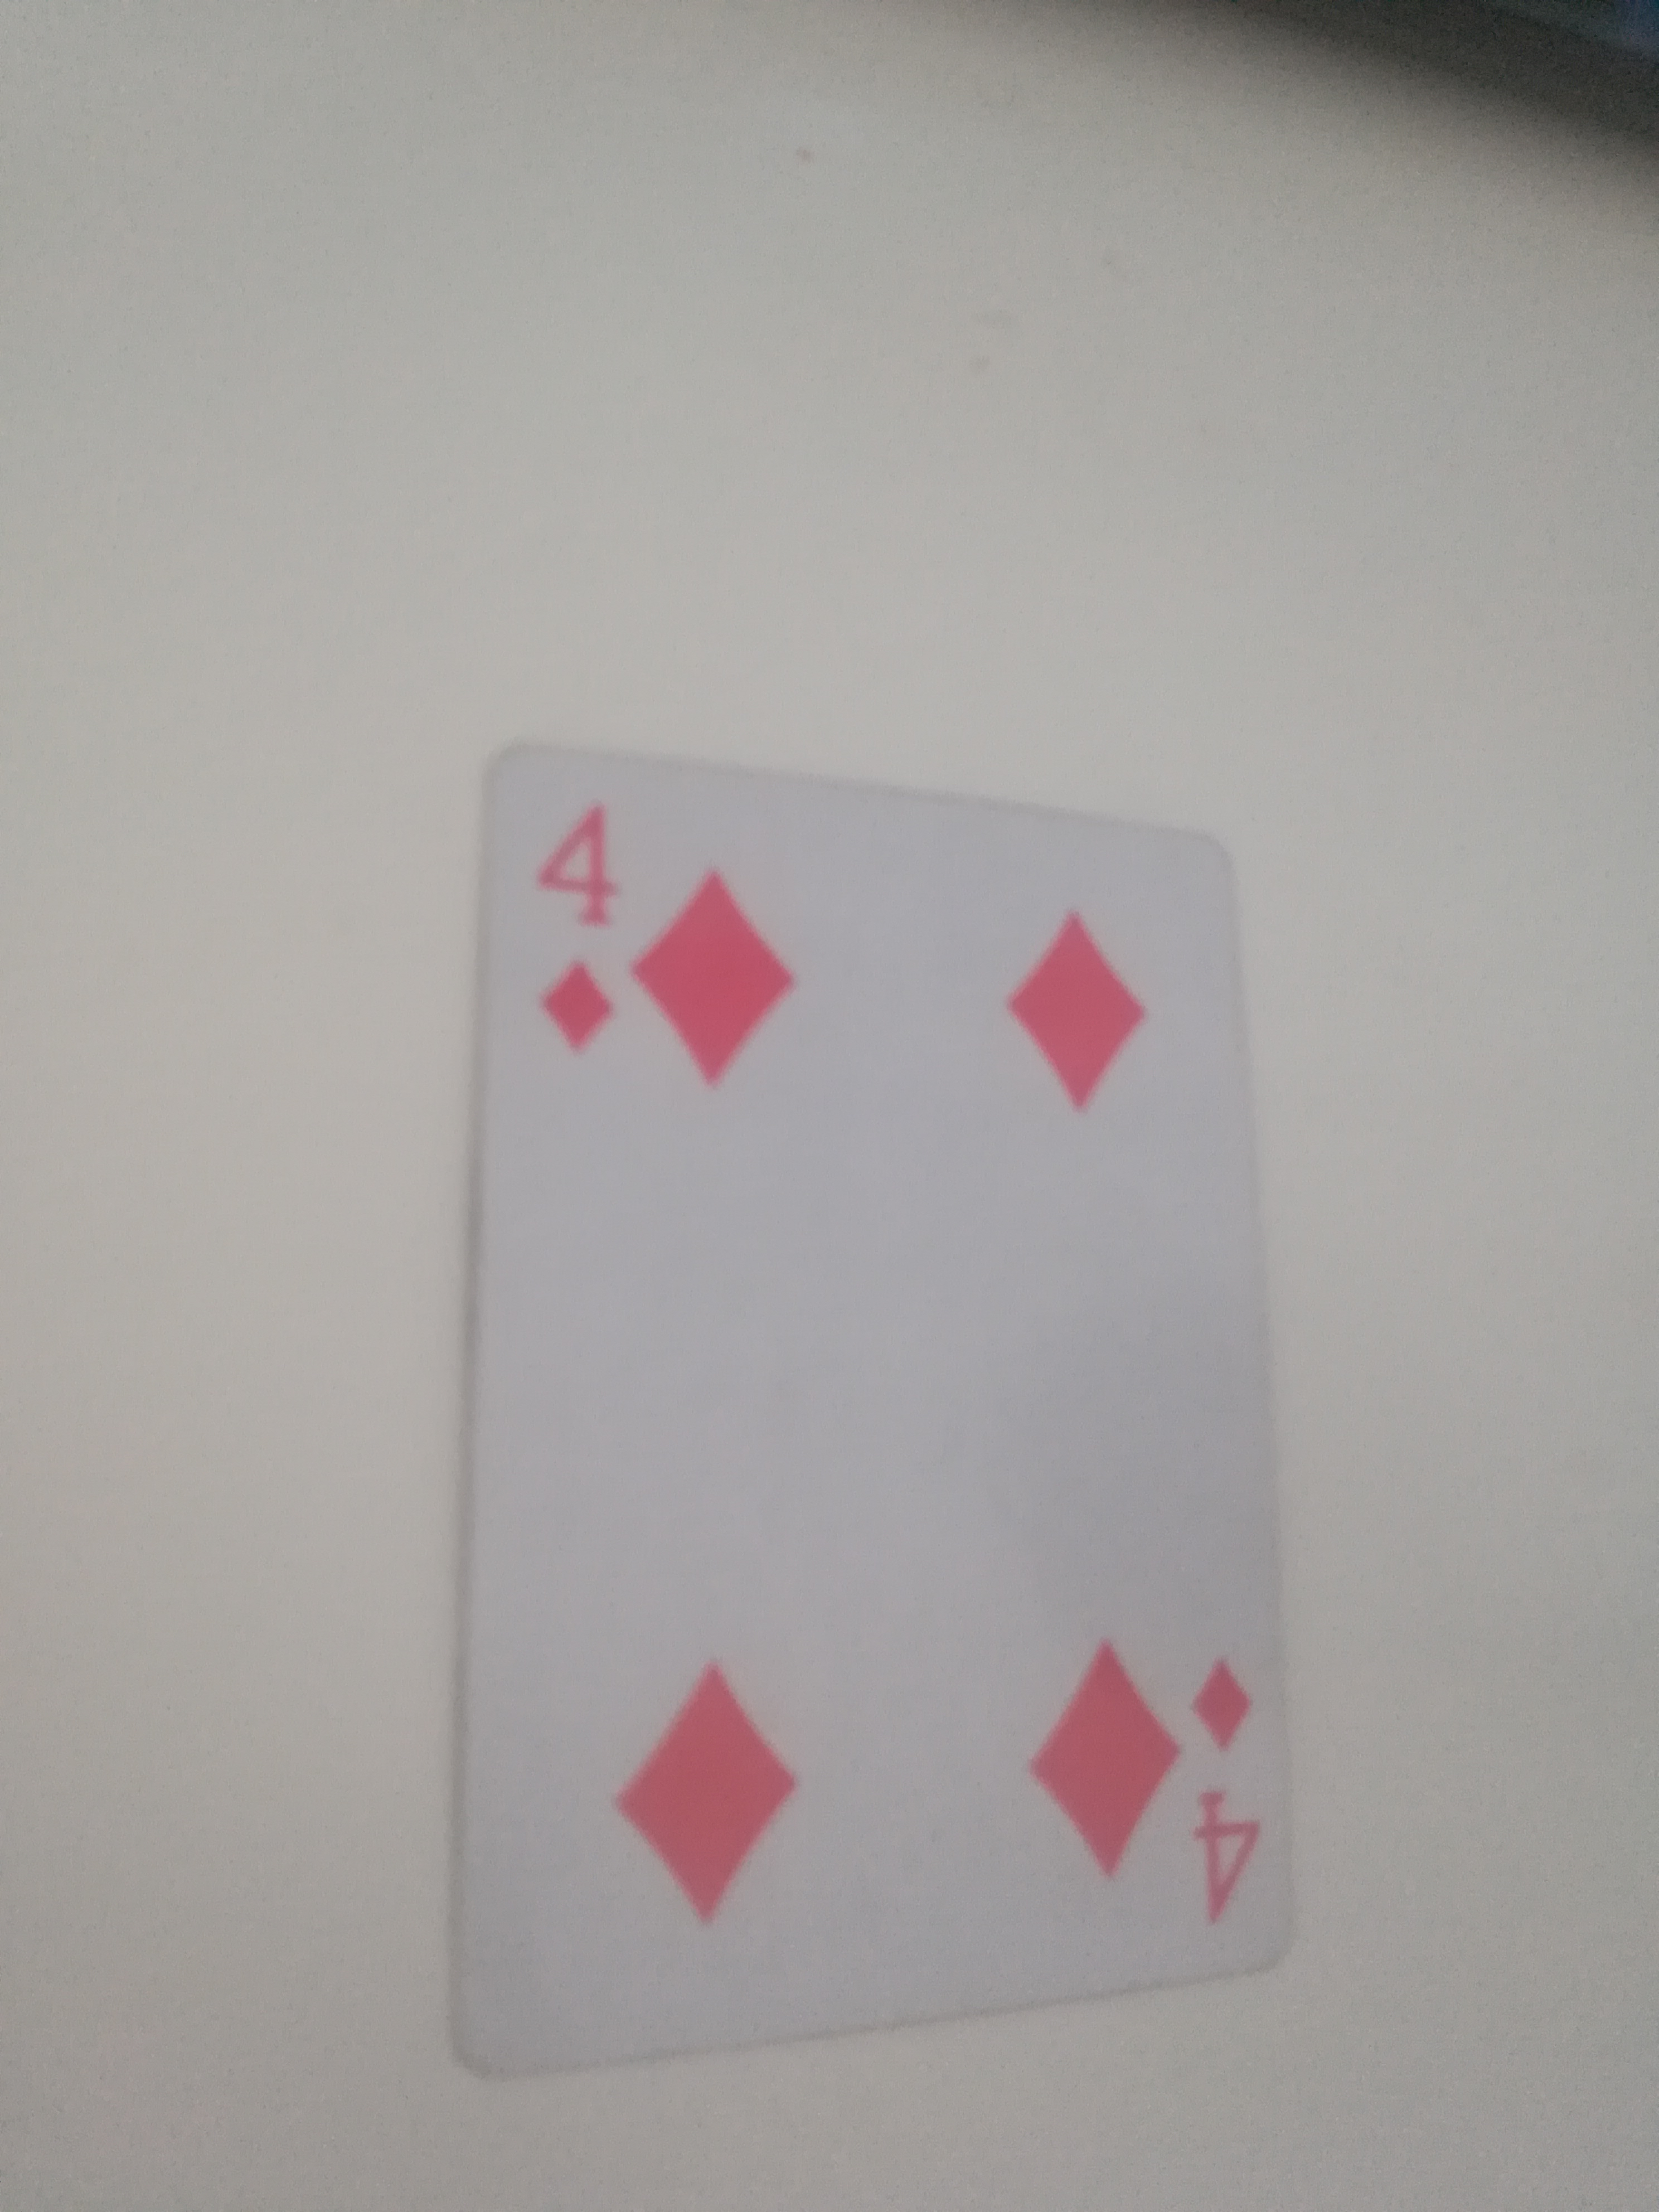4D: (467, 719, 1295, 2050)
